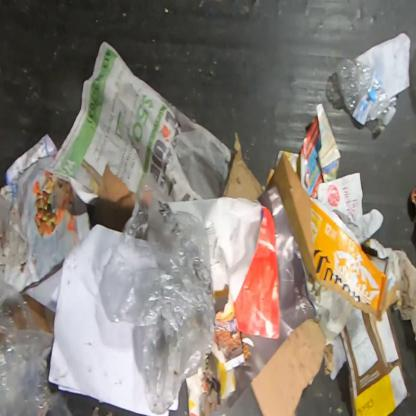cardboard: (267, 151, 387, 320), (250, 317, 334, 415), (338, 306, 410, 415), (92, 165, 137, 233), (222, 133, 265, 203), (367, 256, 388, 275)
rigid_plastic: (337, 57, 397, 127)
soft_plastic: (102, 172, 216, 416), (0, 280, 70, 415)
